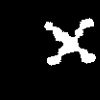single_crochet: (44, 18, 95, 64)
